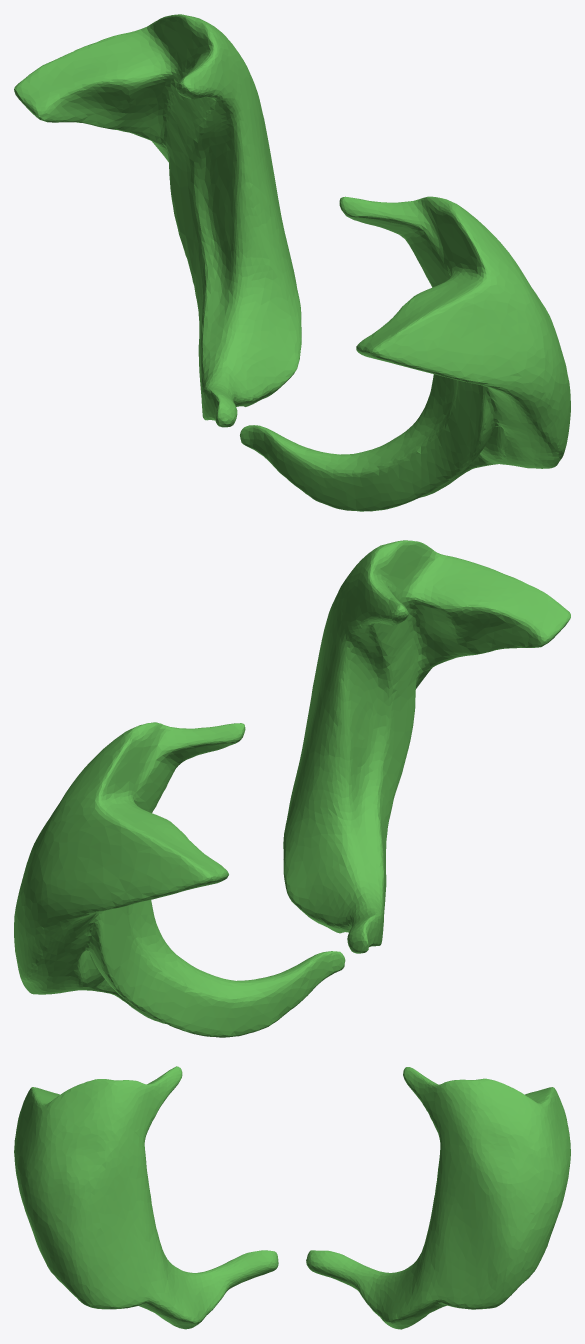
3 views of the same model, one above another, from view 1: azimuth 30°, elevation 25°; view 2: azimuth 150°, elevation 25°; view 3: azimuth 270°, elevation 25° (orthographic). The views are drawn at different scales.
Parts seen in each view (by area): view 1: 822.obj; view 2: 822.obj; view 3: 822.obj.
Part boxes in pixels (x1,y1,x2,y2): 822.obj: (14,14,570,511); 822.obj: (14,540,570,1037); 822.obj: (14,1066,570,1329).
Bounding box in the file's own units: 3417 × 4893 × 10123.
